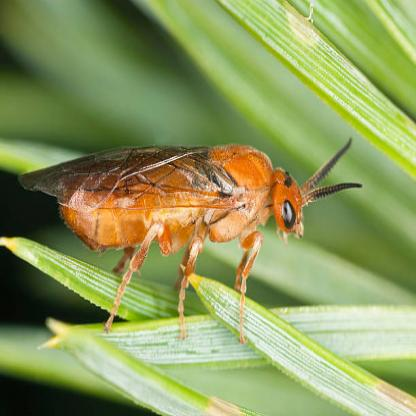sawfly: (15, 130, 366, 338)
